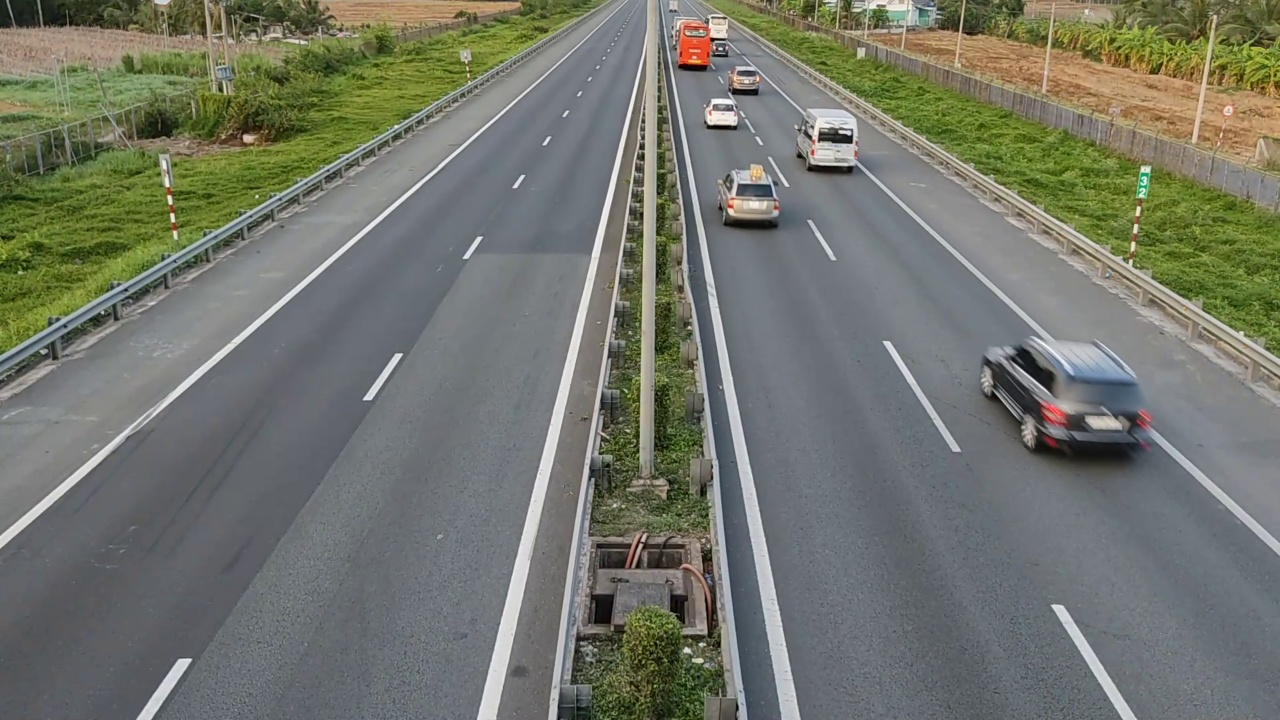car: (977, 330, 1161, 477), (791, 101, 860, 174), (717, 167, 780, 227), (703, 97, 741, 129), (727, 65, 763, 95)
